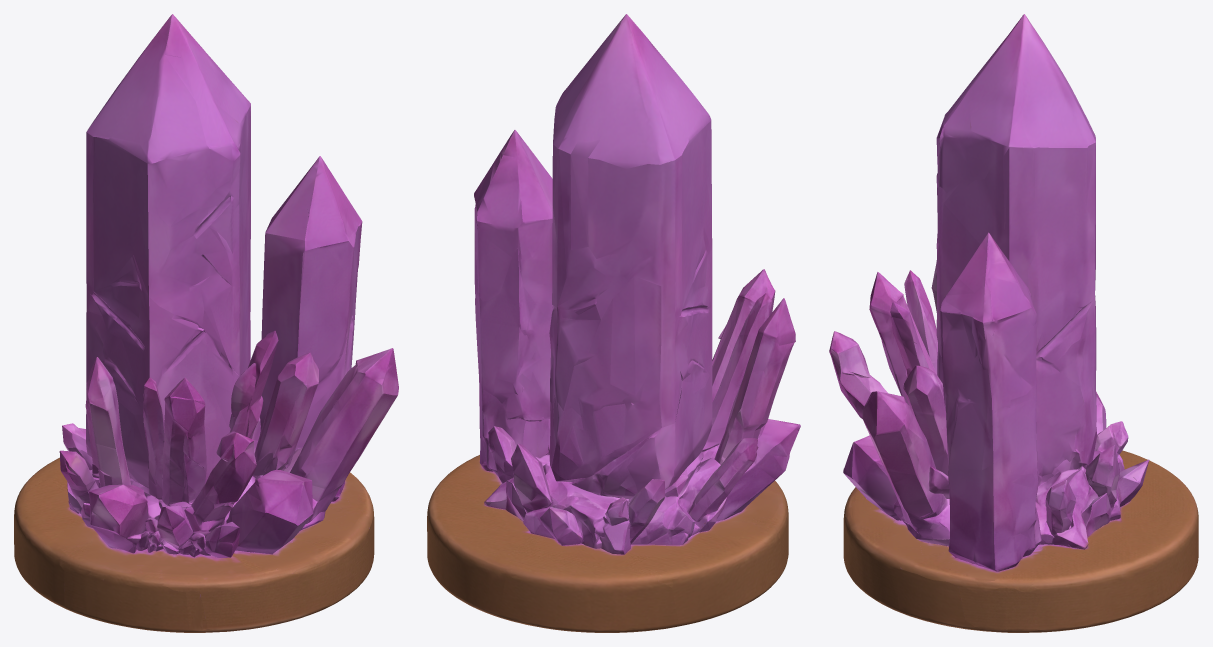
3 views of the same model, side by side, from view 1: azimuth 30°, elevation 25°; view 2: azimuth 150°, elevation 25°; view 3: azimuth 270°, elevation 25° (orthographic). The views are drawn at different scales.
Parts seen in each view (by area): view 1: Mesh_0; view 2: Mesh_0; view 3: Mesh_0.
Boxes of the visible parts, x1,y1,x2,y2 form: Mesh_0: (14,14,398,632); Mesh_0: (427,14,800,632); Mesh_0: (829,14,1198,632).
Size of the model in its own units: 1.13 by 1.9 by 1.18.
Materials: 1 (1 with a texture image).
